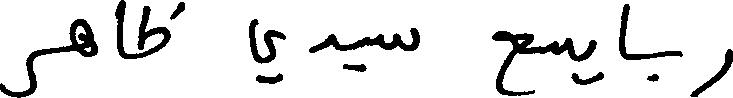X: (492, 26, 531, 97), (250, 14, 284, 88), (695, 44, 732, 97), (0, 46, 36, 97), (139, 1, 168, 62), (538, 33, 571, 82), (380, 23, 419, 55), (71, 14, 96, 61), (618, 0, 628, 64), (312, 29, 331, 57), (117, 0, 125, 63), (587, 35, 596, 88), (363, 32, 368, 76), (673, 46, 681, 61)
